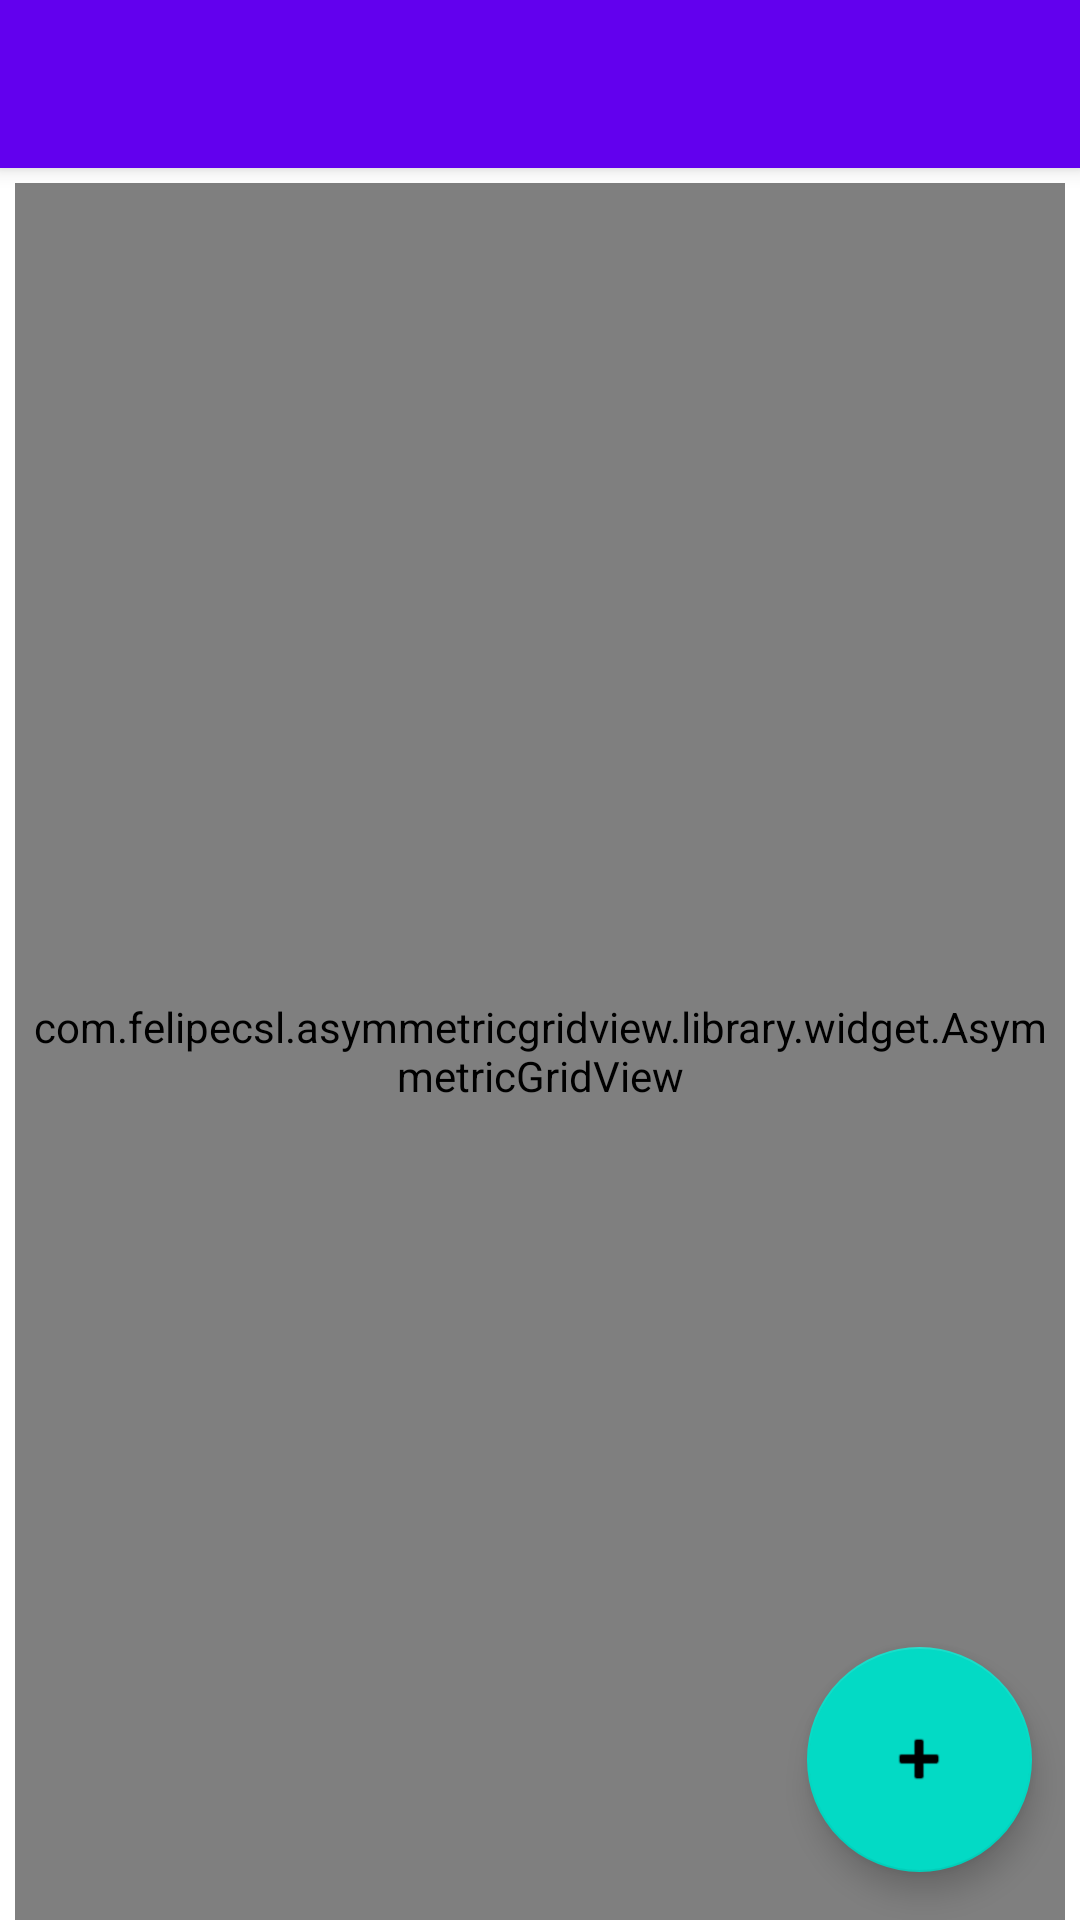

Locate icon controls on the screen. Image size 1080px×1920px, boxes as (x1, y1, x2, y2).
add: (807, 1647, 1032, 1872)
